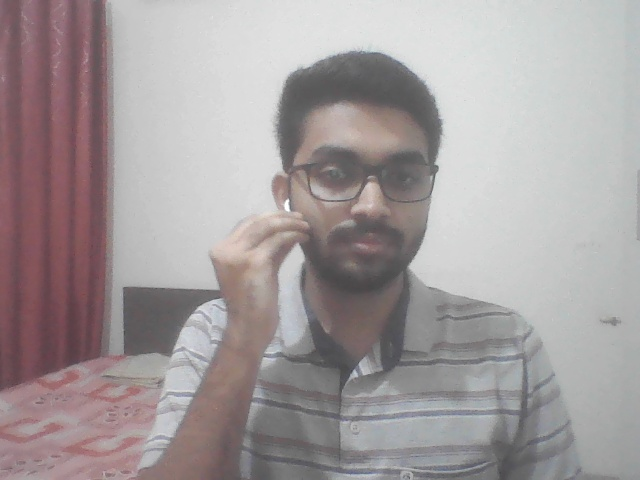home: (187, 198, 328, 412)
